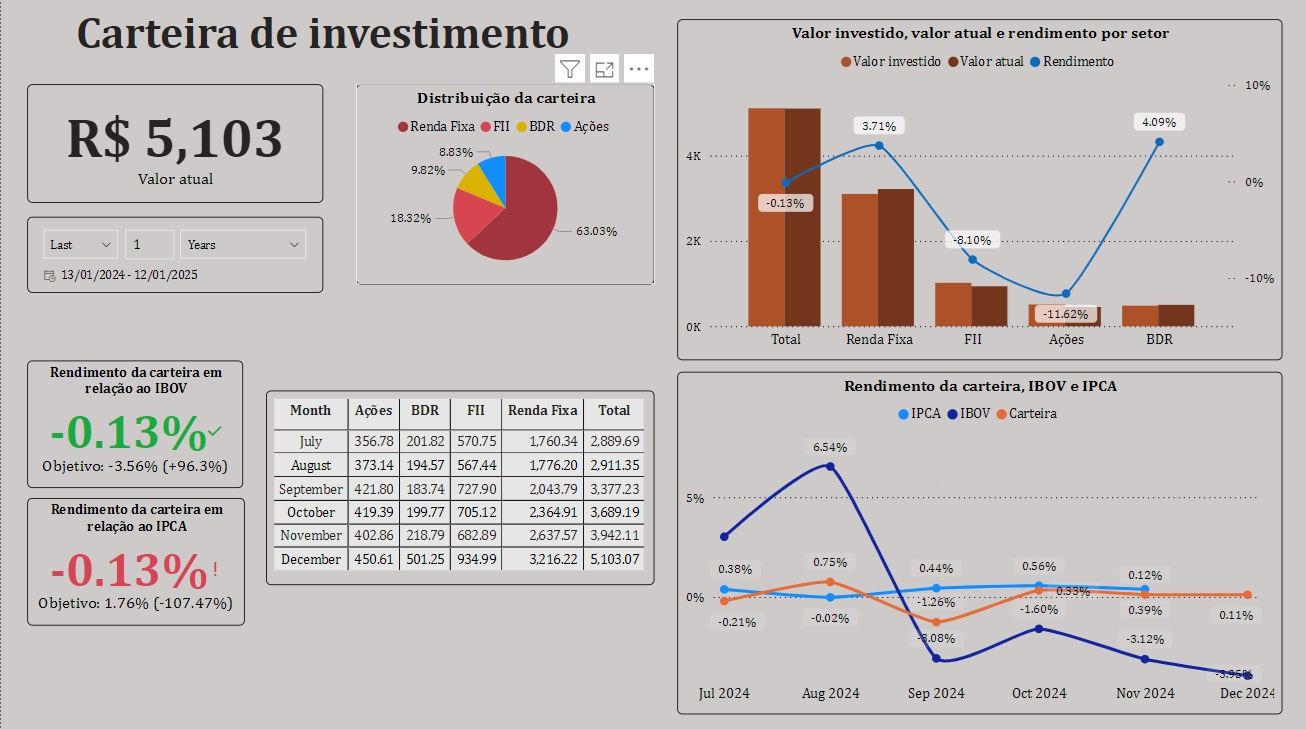

This screenshot's page, from the dashboard's own definition file:
{"tool":"powerbi","page":{"name":"General","canvas":[1280,720],"ordinal":0},"visuals":[{"type":"pieChart","title":"Distribuição da carteira","fields":{"Y":["Sum(Visao_Geral.%Carteira)"],"Category":["Visao_Geral.Tipo"]},"box":[347.3,89.3,292.3,195.7],"z":0},{"type":"lineClusteredColumnComboChart","title":"Valor investido, valor atual e rendimento por setor","fields":{"Category":["Visao_Geral.Tipo"],"Y":["Sum(Visao_Geral.Valor_Investido)","Sum(Visao_Geral.Valor_Atual)"],"Y2":["Sum(Visao_Geral.Rend)"]},"box":[661.6,25.7,591.9,333.8],"z":1000},{"type":"card","fields":{"Values":["Max(Visao_Geral.Valor_Atual)"]},"box":[25.7,89.3,289.8,116.2],"z":2000},{"type":"textbox","box":[59.9,8.6,509.9,68.5],"z":3000},{"type":"pivotTable","fields":{"Columns":["Report_Mensal.Tipo"],"Values":["Sum(Report_Mensal.Valor_Final)"],"Rows":["IBOV_IPCA.Mês.Variation.Date Hierarchy.Year","IBOV_IPCA.Mês.Variation.Date Hierarchy.Month"]},"box":[259.2,388.9,380.3,190.8],"z":4000},{"type":"lineChart","title":"Rendimento da carteira, IBOV e IPCA","fields":{"Category":["IBOV_IPCA.Mês.Variation.Date Hierarchy.Year"],"Y":["Sum(IBOV_IPCA.IPCA)","Sum(IBOV_IPCA.IBOV)","Sum(IBOV_IPCA.Carteira)"]},"box":[661.6,370.5,591.9,335.1],"z":5000},{"type":"slicer","fields":{"Values":["IBOV_IPCA.Mês"]},"box":[25.7,218.9,289.8,74.6],"z":6000},{"type":"kpi","title":"Rendimento da carteira em relação ao IBOV","fields":{"TrendLine":["KPI_Anual.Ano"],"Indicator":["Sum(KPI_Anual.Carteira)"],"Goal":["Sum(KPI_Anual.IBOV)"]},"box":[25.7,359.5,211.6,124.7],"z":7000},{"type":"kpi","title":"Rendimento da carteira em relação ao IPCA","fields":{"TrendLine":["KPI_Anual.Ano"],"Indicator":["Sum(KPI_Anual.Carteira)"],"Goal":["Sum(KPI_Anual.IPCA)"]},"box":[25.7,494,212.8,124.7],"z":8000}]}

Visuals, with their boxes in screenshot pixels (x1, y1, x2, y2), scaled from the page's 1280x720 canvas onto the 1306x729 screenshot:
"Distribuição da carteira" pieChart: <bbox>354, 90, 653, 289</bbox>
"Valor investido, valor atual e rendimento por setor" lineClusteredColumnComboChart: <bbox>675, 26, 1279, 364</bbox>
card - Max(Visao_Geral.Valor_Atual): <bbox>26, 90, 322, 208</bbox>
textbox: <bbox>61, 9, 581, 78</bbox>
pivotTable - Report_Mensal.Tipo x Sum(Report_Mensal.Valor_Final): <bbox>264, 394, 652, 587</bbox>
"Rendimento da carteira, IBOV e IPCA" lineChart: <bbox>675, 375, 1279, 714</bbox>
slicer - IBOV_IPCA.Mês: <bbox>26, 222, 322, 297</bbox>
"Rendimento da carteira em relação ao IBOV" kpi: <bbox>26, 364, 242, 490</bbox>
"Rendimento da carteira em relação ao IPCA" kpi: <bbox>26, 500, 243, 626</bbox>
